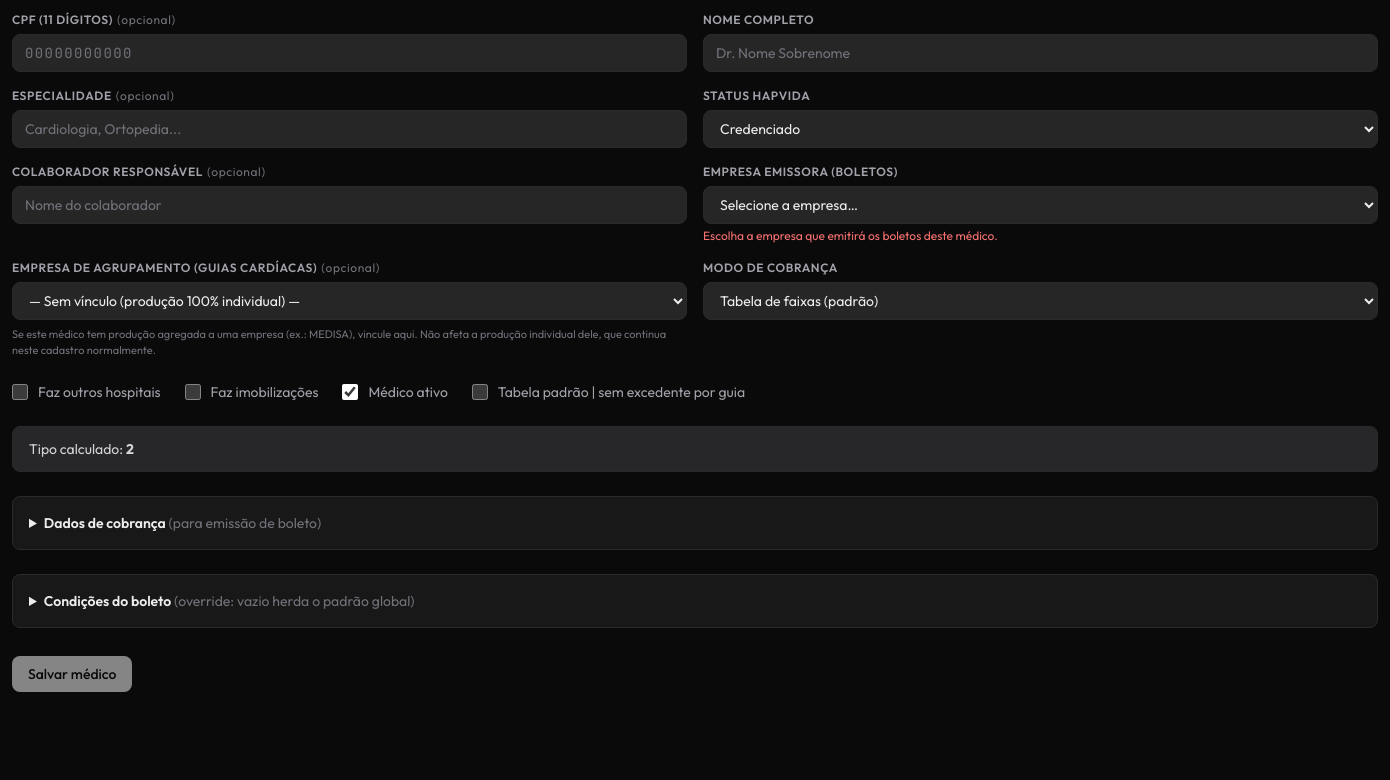
Test: MedicoForm › bloqueia salvar quando a combinação é inválida (nenhum Hapvida + sem outros)
The image size is (1390, 780).
Preenche CPF e nome válidos para isolar a regra de combinação.
In the field labelled "CPF (11 dígitos)(opcional)": (350, 53) [12,34,687,72], type "12345678901"
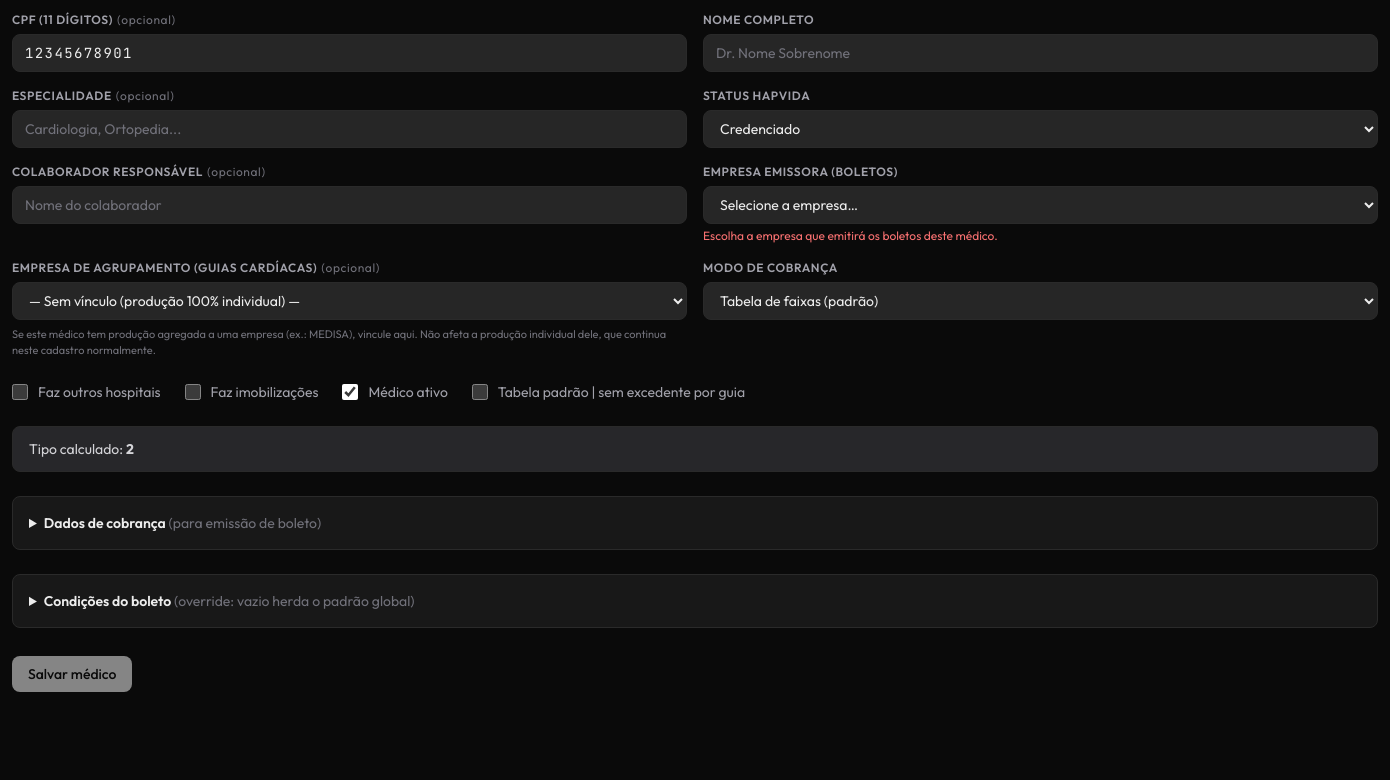
In the field labelled "Nome completo": (1040, 53) [703,34,1378,72], type "Dr. Teste"
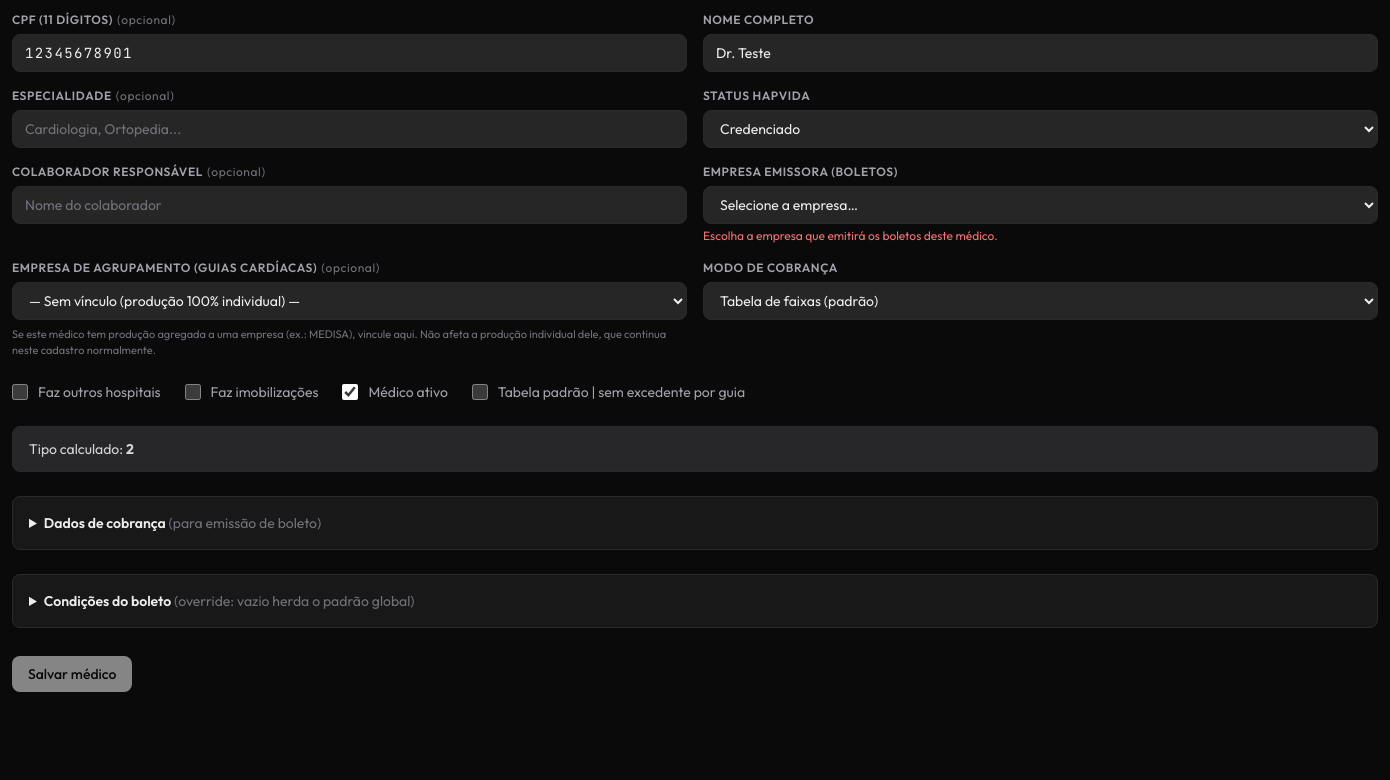
Combinação inválida: status nenhum + não faz outros hospitais.
Select "Nenhum" in the dropdown labelled "Status Hapvida": (1040, 129) [703,110,1378,148]
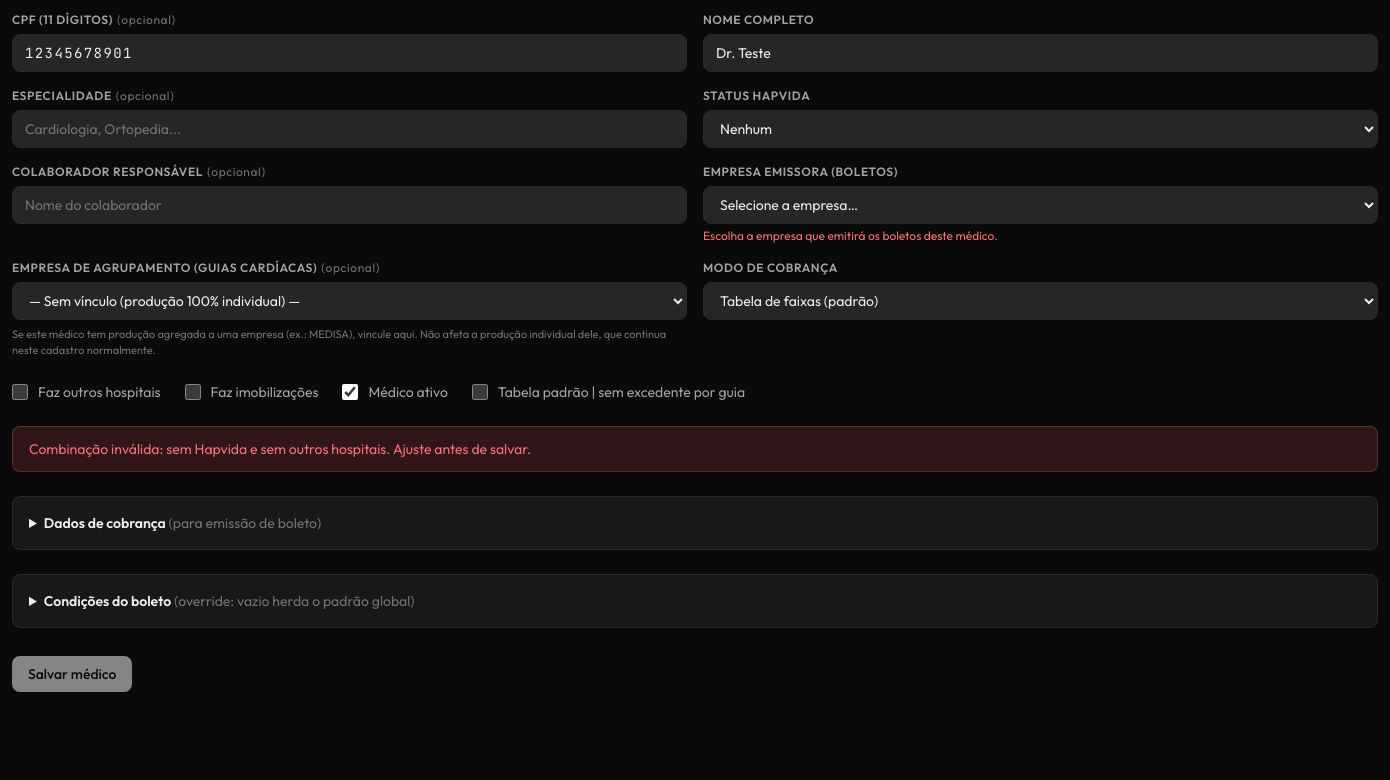
Expected: the button "Salvar médico" is disabled, [12,656,132,692]
Result: the text "Combinação inválida" is shown at [29,440,531,458]
